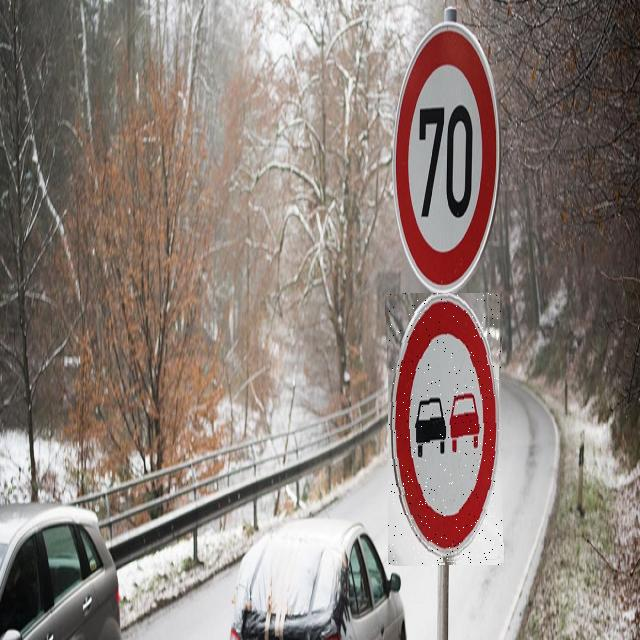no overtaking: (388, 293, 502, 566)
